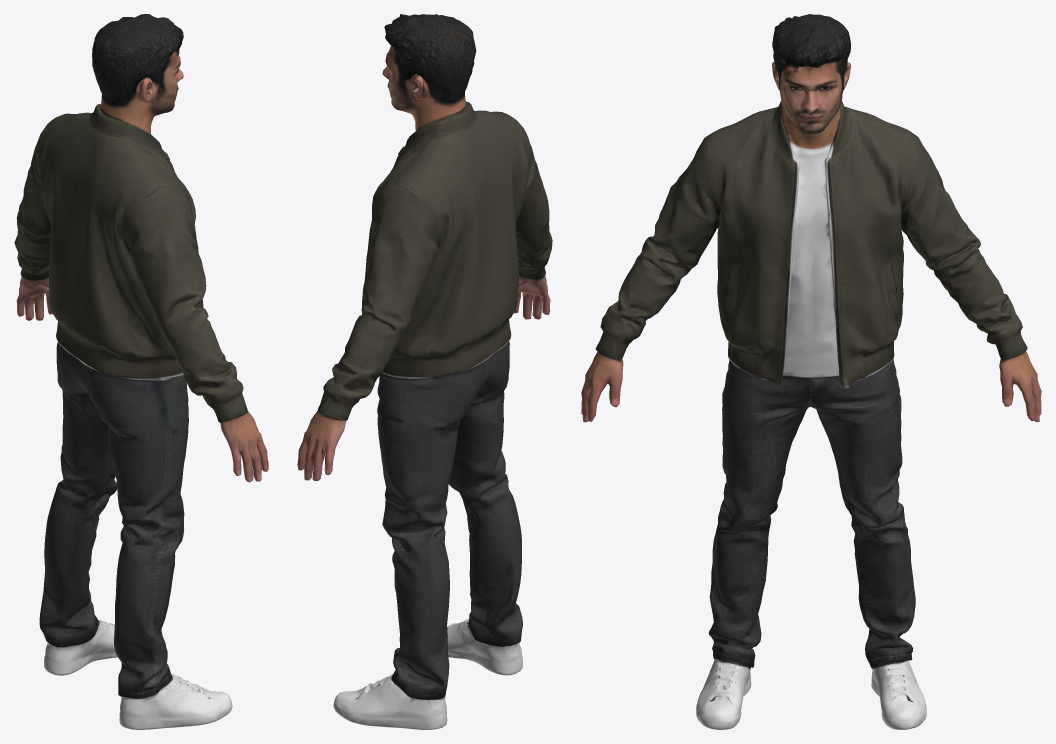
The model's file is protagonista_tripo.glb.
The picture shows the model from 3 angles, left to right: view 1: azimuth 30°, elevation 25°; view 2: azimuth 150°, elevation 25°; view 3: azimuth 270°, elevation 25°; orthographic projection. The views are drawn at different scales.
Parts seen in each view (by area): view 1: tripo_node_08995491-77fb-4e0c-bc80-ecf1f20cf08b; view 2: tripo_node_08995491-77fb-4e0c-bc80-ecf1f20cf08b; view 3: tripo_node_08995491-77fb-4e0c-bc80-ecf1f20cf08b.
Boxes of the visible parts, <box> form: tripo_node_08995491-77fb-4e0c-bc80-ecf1f20cf08b: <box>14,14,268,729</box>; tripo_node_08995491-77fb-4e0c-bc80-ecf1f20cf08b: <box>297,14,552,729</box>; tripo_node_08995491-77fb-4e0c-bc80-ecf1f20cf08b: <box>581,14,1041,729</box>.
Bounding box in the file's own units: 0.3512 × 1.85 × 1.12.
Materials: 1 (1 with a texture image).
